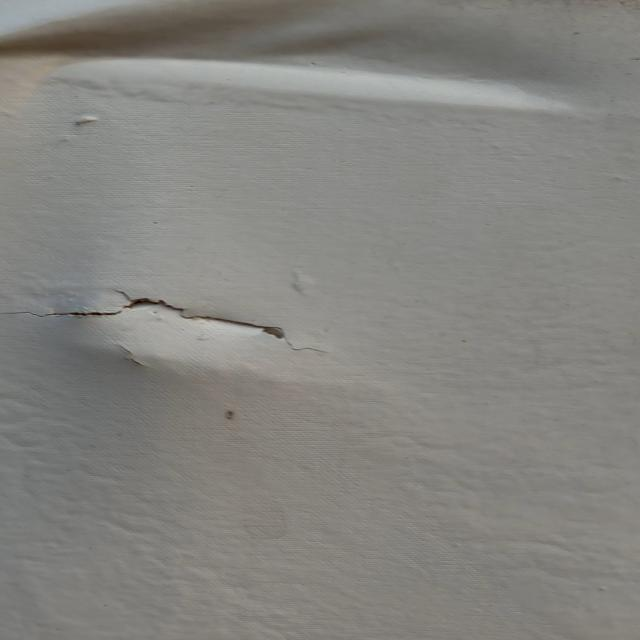Dents or Deformation: (1, 1, 640, 116)
Scratches: (1, 281, 364, 372)
